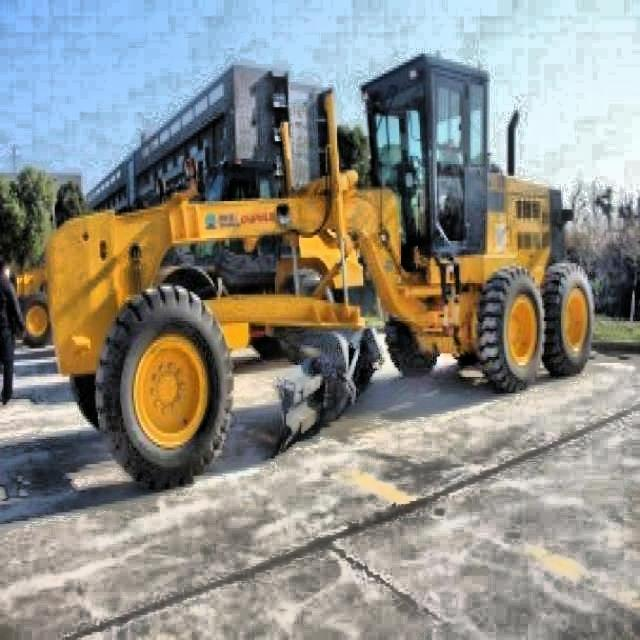bull_dozer/loader/grader: (41, 48, 596, 490), (14, 246, 58, 350)
person: (0, 260, 32, 410)
